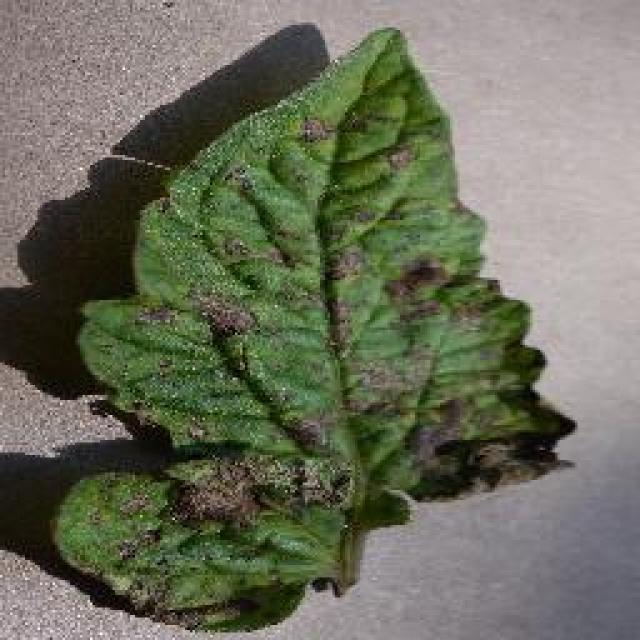Tomato Early blight leaf: (47, 21, 578, 640)
